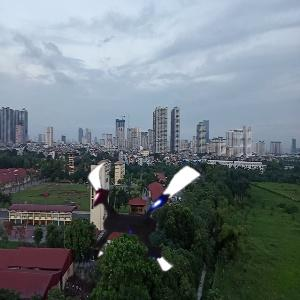drone: (74, 142, 215, 283)
